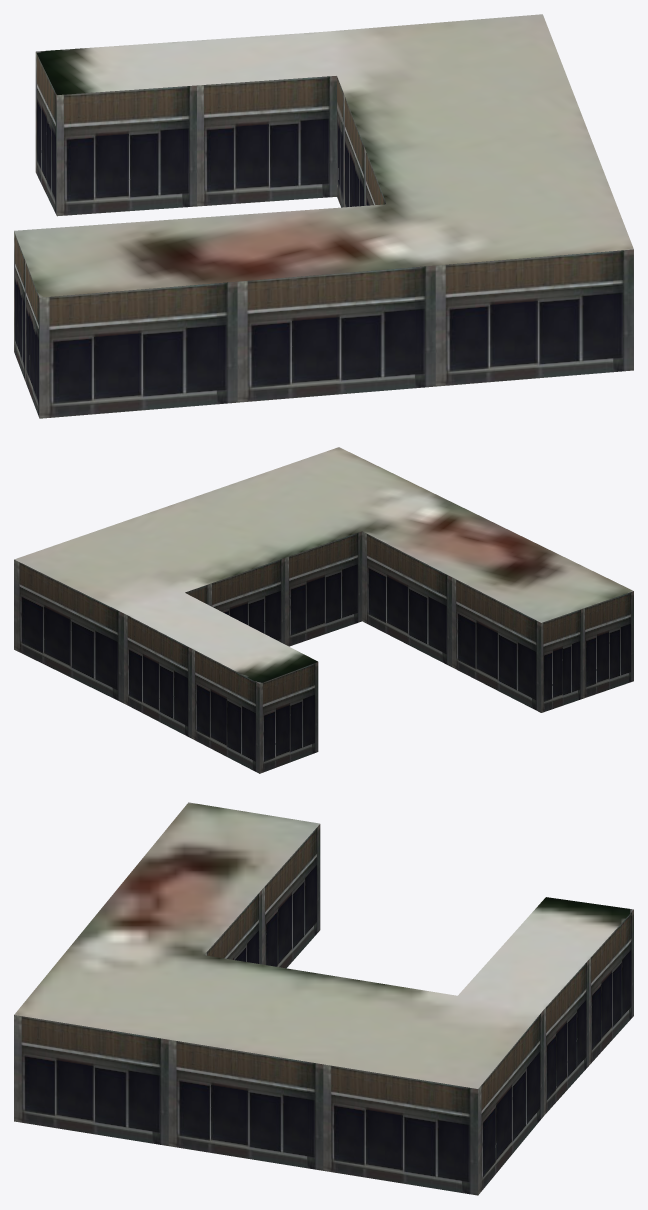
3 views of the same model, one above another, from view 1: azimuth 30°, elevation 25°; view 2: azimuth 150°, elevation 25°; view 3: azimuth 270°, elevation 25° (orthographic). The views are drawn at different scales.
Parts seen in each view (by area): view 1: SketchUp (×8); view 2: SketchUp (×8); view 3: SketchUp (×5).
Part boxes in pixels (<box>): SketchUp (×8): <box>14,14,633,418</box>; SketchUp (×8): <box>14,447,633,773</box>; SketchUp (×5): <box>14,802,633,1195</box>.
Size of the model in its own units: 19.63 by 17.94 by 3.4.
Materials: 2 (2 with a texture image).
